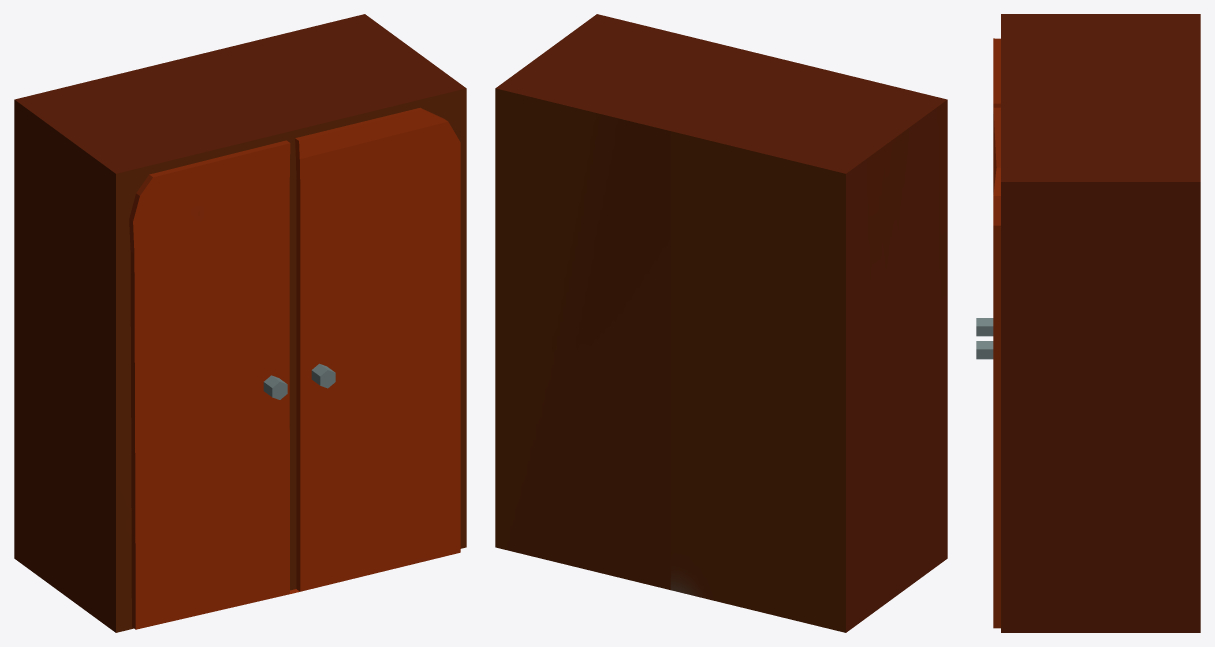
The model's file is Porte3.fbx.
3 renders of one model, left to right at view 1: azimuth 30°, elevation 25°; view 2: azimuth 150°, elevation 25°; view 3: azimuth 270°, elevation 25°, orthographic.
Visible parts, largest first — view 1: Portes; view 2: Portes; view 3: Portes.
Part boxes in pixels (bbox=[...]): Portes: bbox=[14, 14, 466, 632]; Portes: bbox=[495, 14, 947, 632]; Portes: bbox=[976, 14, 1200, 632].
Size of the model in its own units: 398 by 499 by 225.
